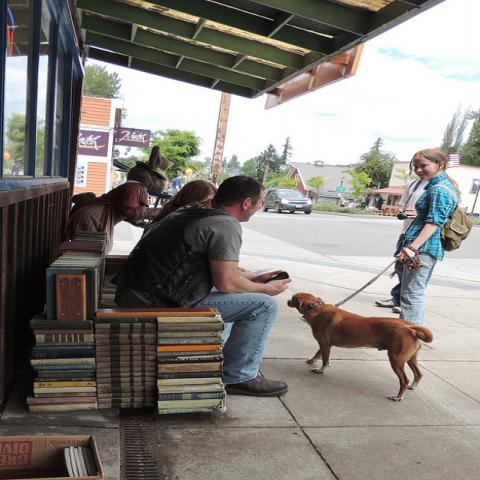car: (262, 188, 313, 214)
